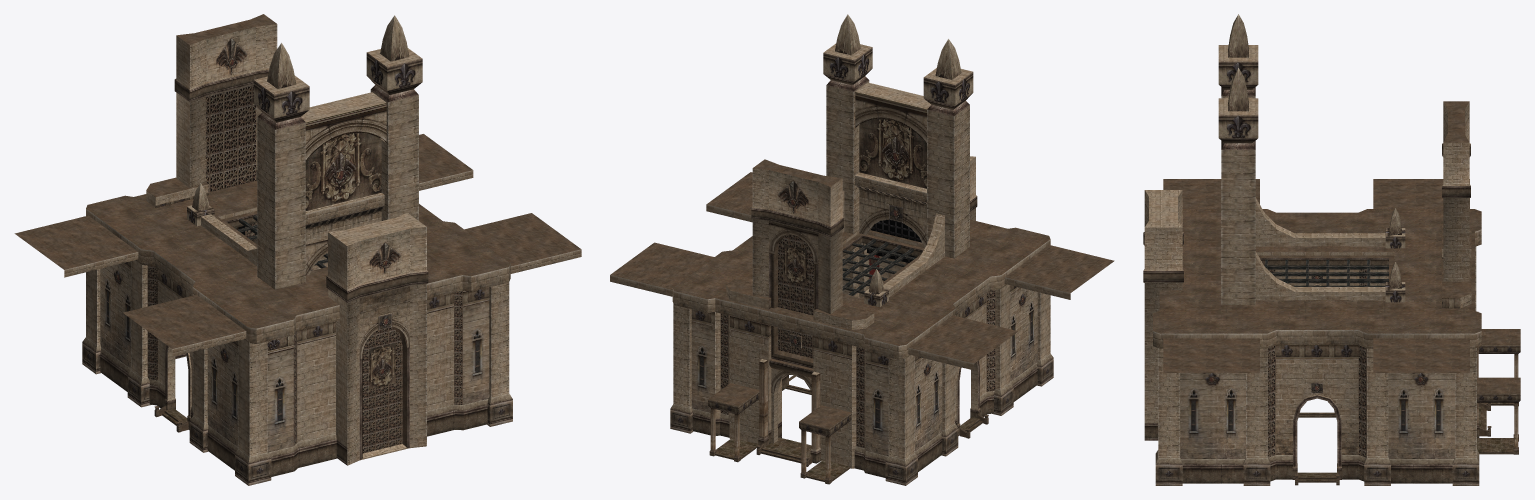
Rendered from ti_fighter_hall.glb.
3 views of the same model, side by side, from view 1: azimuth 30°, elevation 25°; view 2: azimuth 150°, elevation 25°; view 3: azimuth 270°, elevation 25° (orthographic). The views are drawn at different scales.
Visible parts, largest first — view 1: TI_Fighter_Hall; view 2: TI_Fighter_Hall; view 3: TI_Fighter_Hall.
Boxes of the visible parts, box(x1,y1,x2,y2) form: TI_Fighter_Hall: box(14, 14, 581, 485); TI_Fighter_Hall: box(610, 14, 1114, 485); TI_Fighter_Hall: box(1143, 14, 1520, 485).
Size of the model in its own units: 16.22 by 14.92 by 13.34.
Materials: 34 (34 with a texture image).
